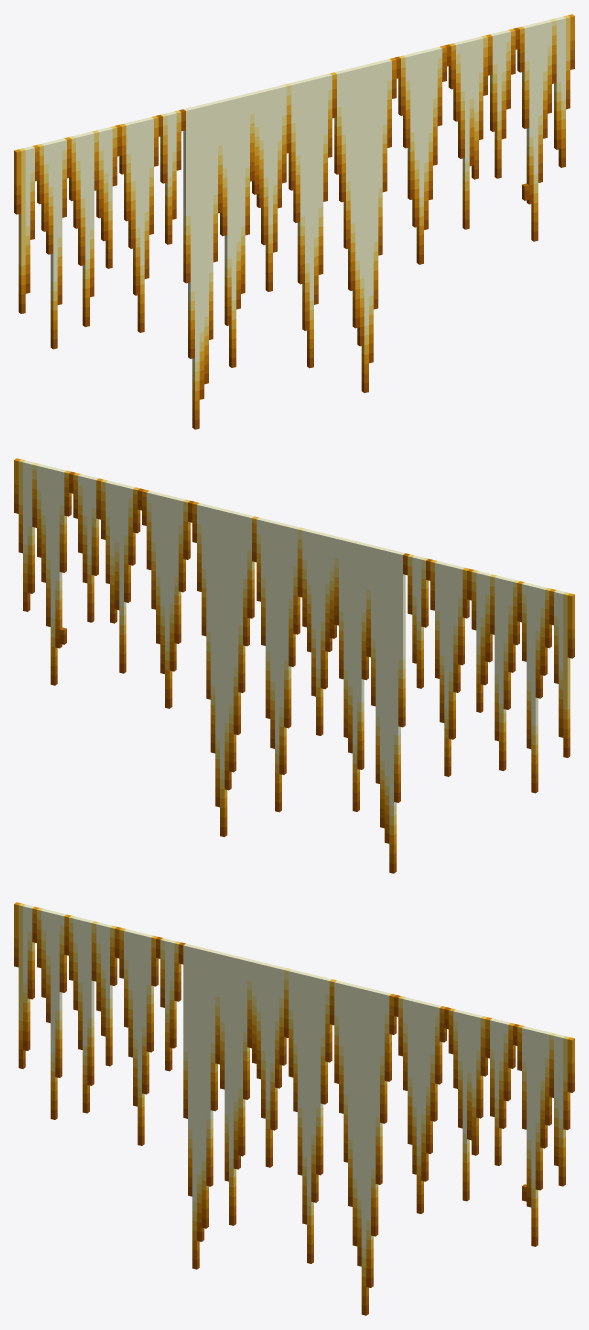
The model's file is Fight_107_3_16_fx.obj.
3 views of the same model, one above another, from view 1: azimuth 30°, elevation 25°; view 2: azimuth 150°, elevation 25°; view 3: azimuth 330°, elevation 25° (orthographic).
Size of the model in its own units: 12.2 by 6.8 by 0.1.
